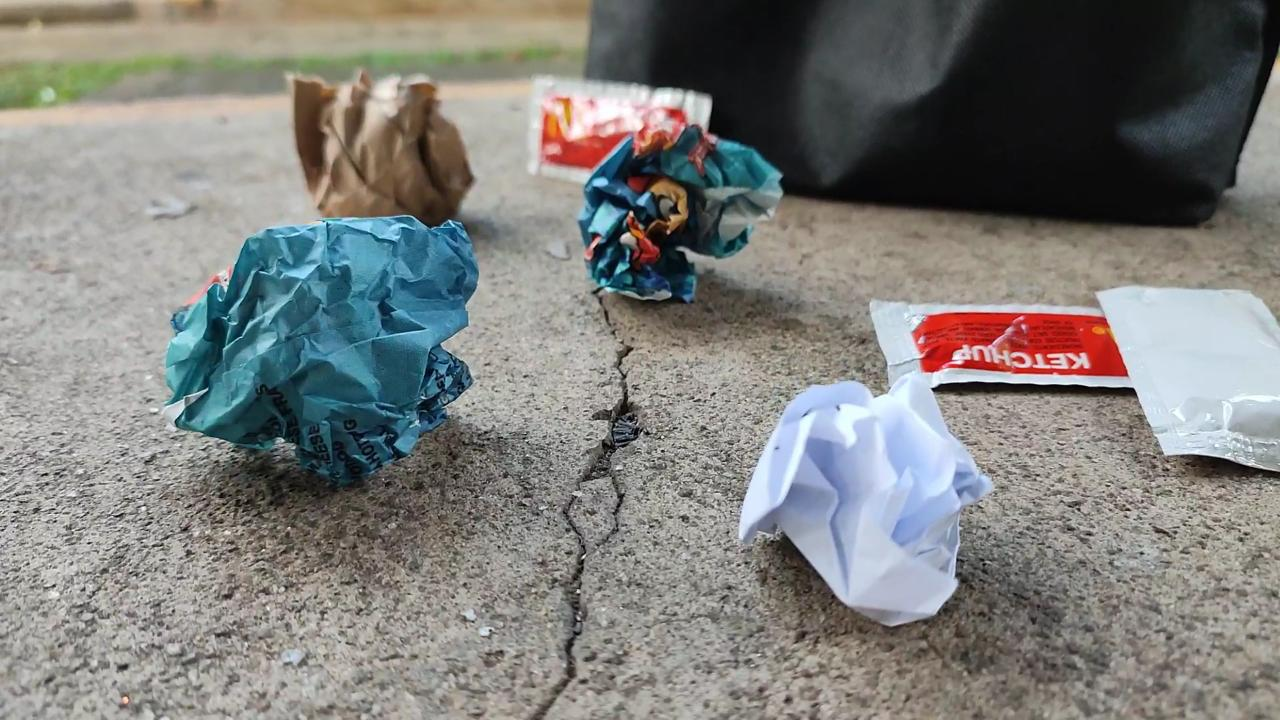Paper: (146, 199, 486, 507), (711, 357, 996, 635), (564, 119, 790, 316), (279, 60, 480, 234)
